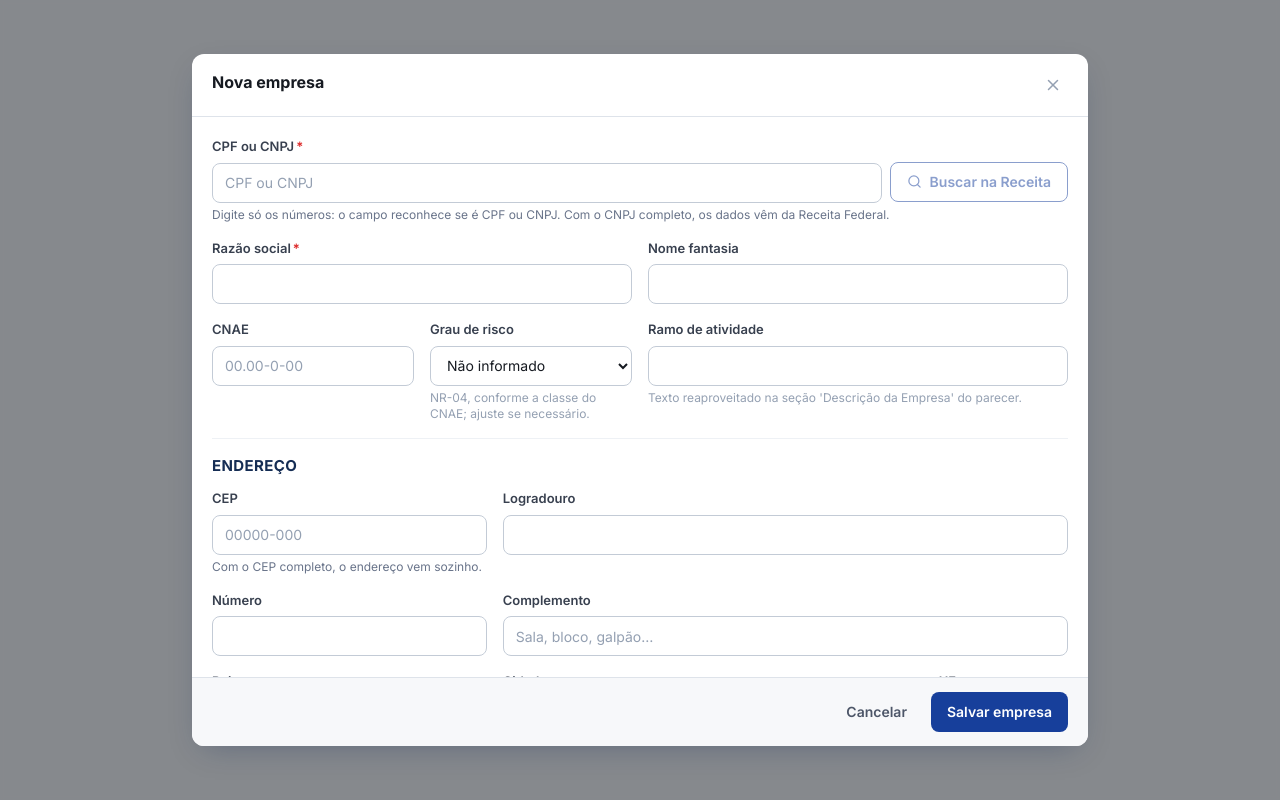
ModalEmpresa › CNPJ com dígito errado não chega a ir ao servidor
The width and height of the screenshot is (1280, 800).
Type "ADZ SERVICOS LTDA" into the field labelled "Razão social*" at (422, 284), box [212, 264, 632, 304]
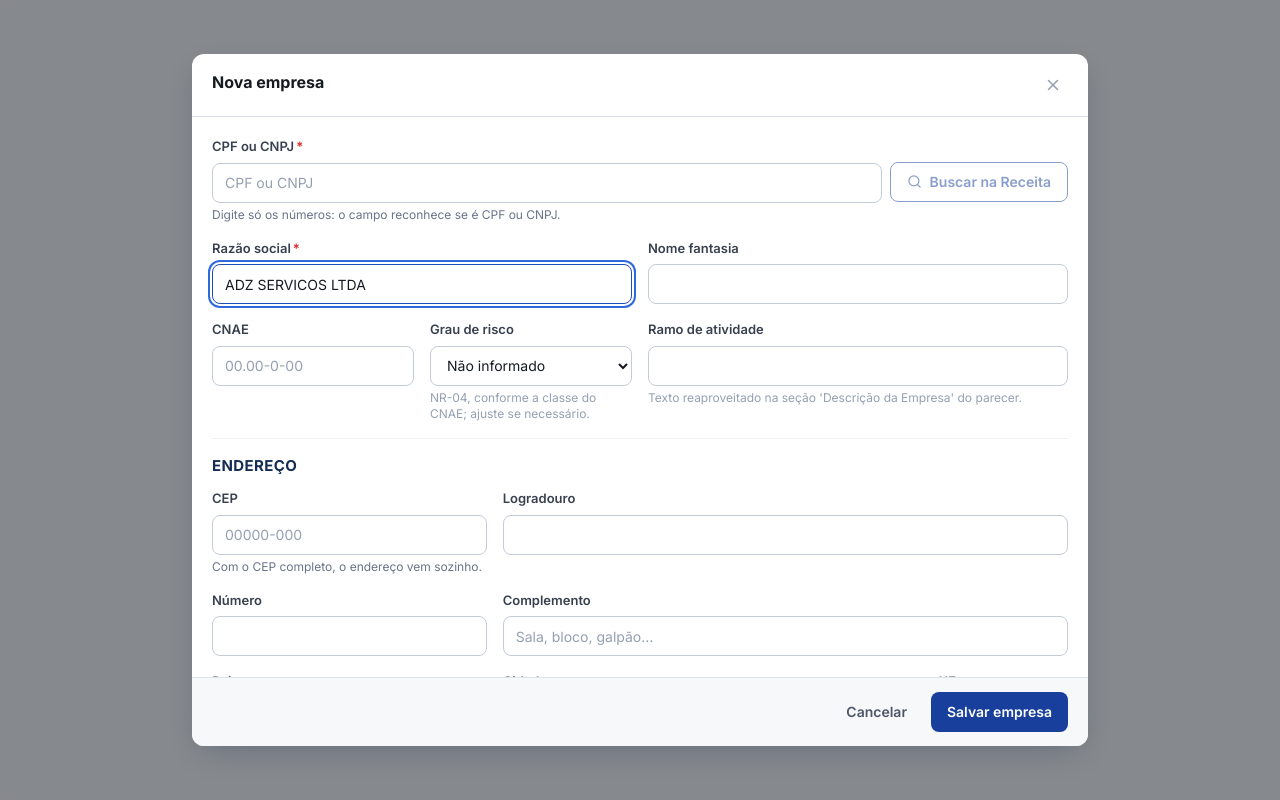
Type "11222333000180" into the field labelled "CPF ou CNPJ" at (547, 182), box [212, 162, 882, 202]
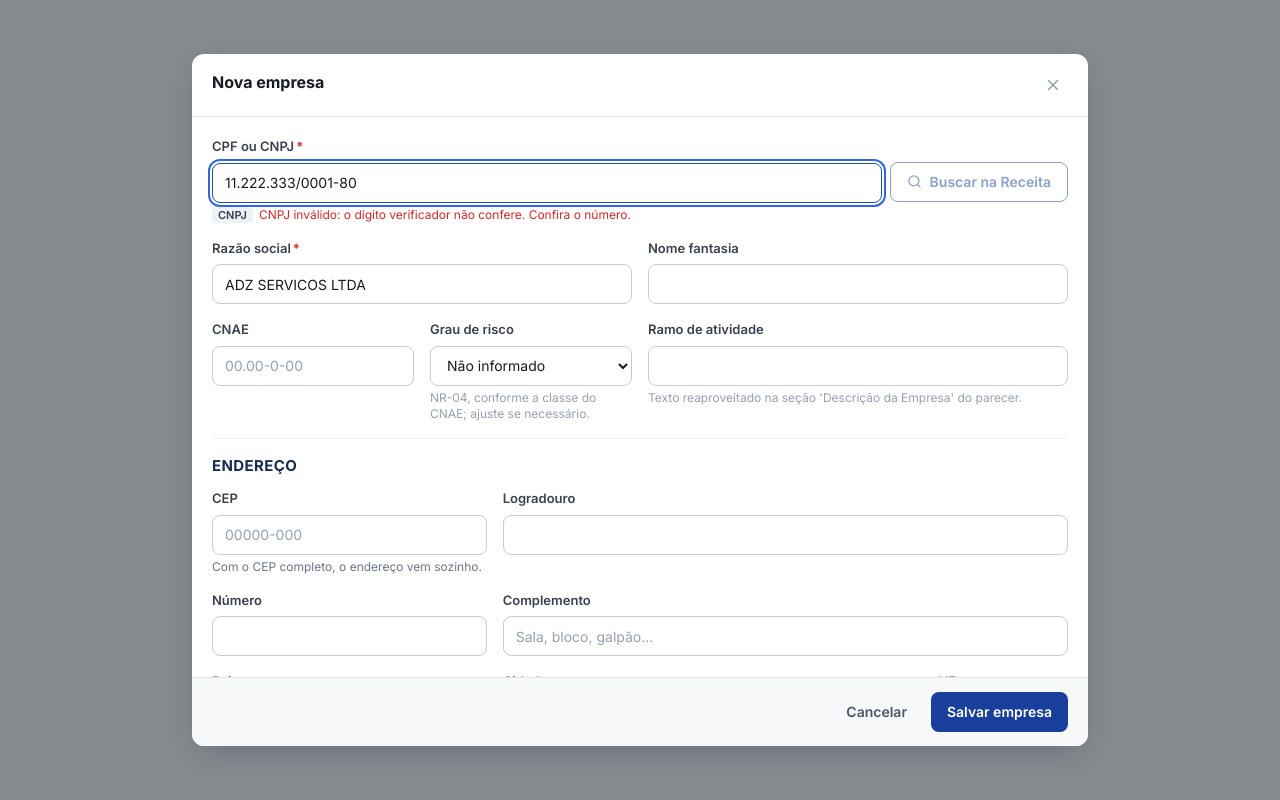
Click the button "Salvar empresa" at (1000, 712), box [931, 692, 1068, 732]
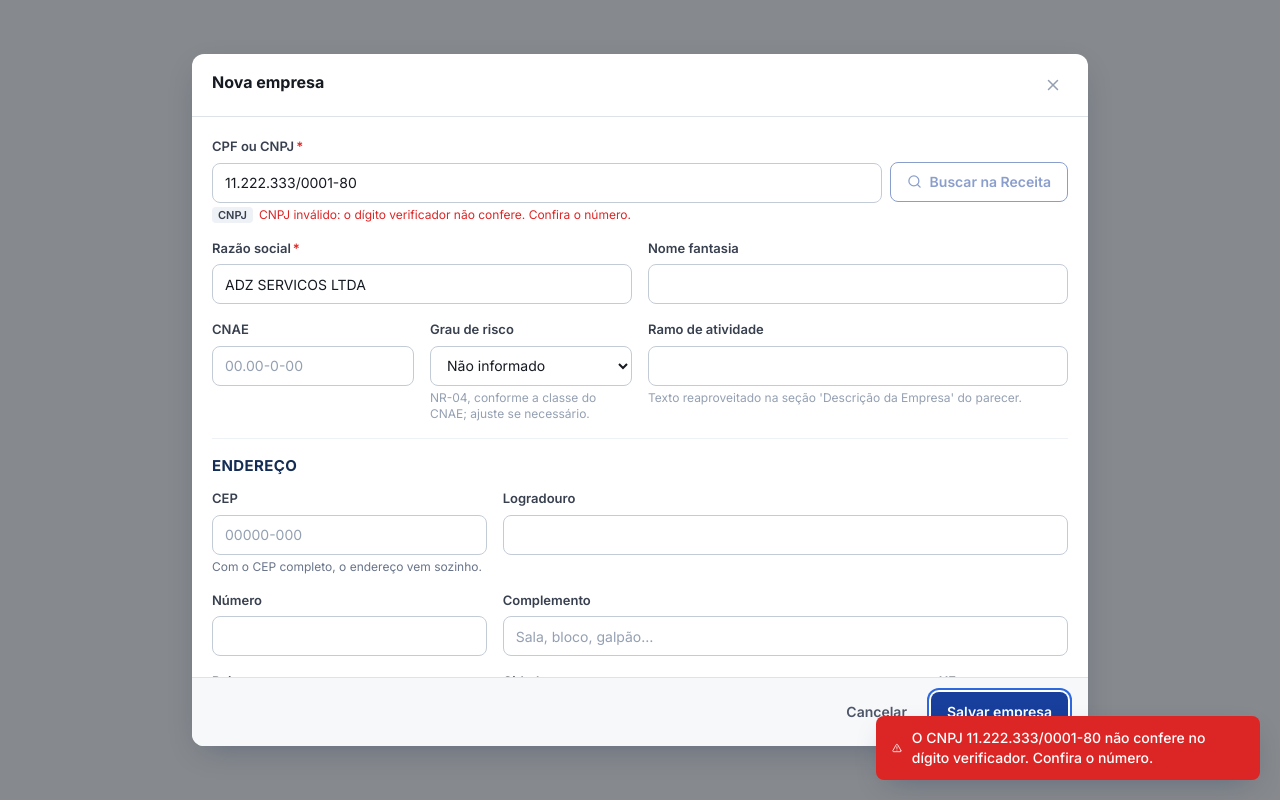
Expected: the text "O CNPJ 11.222.333/0001-80 não confere no dígito verificador" is shown, [912, 729, 1205, 766]
